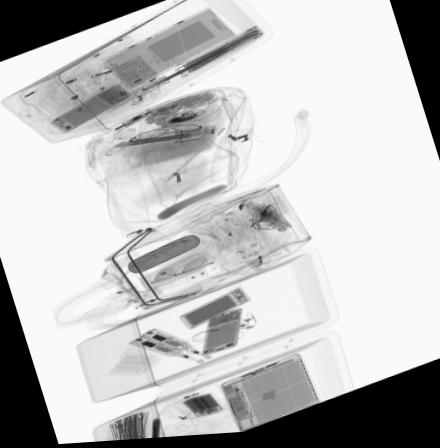Powerbank: (174, 289, 249, 335)
